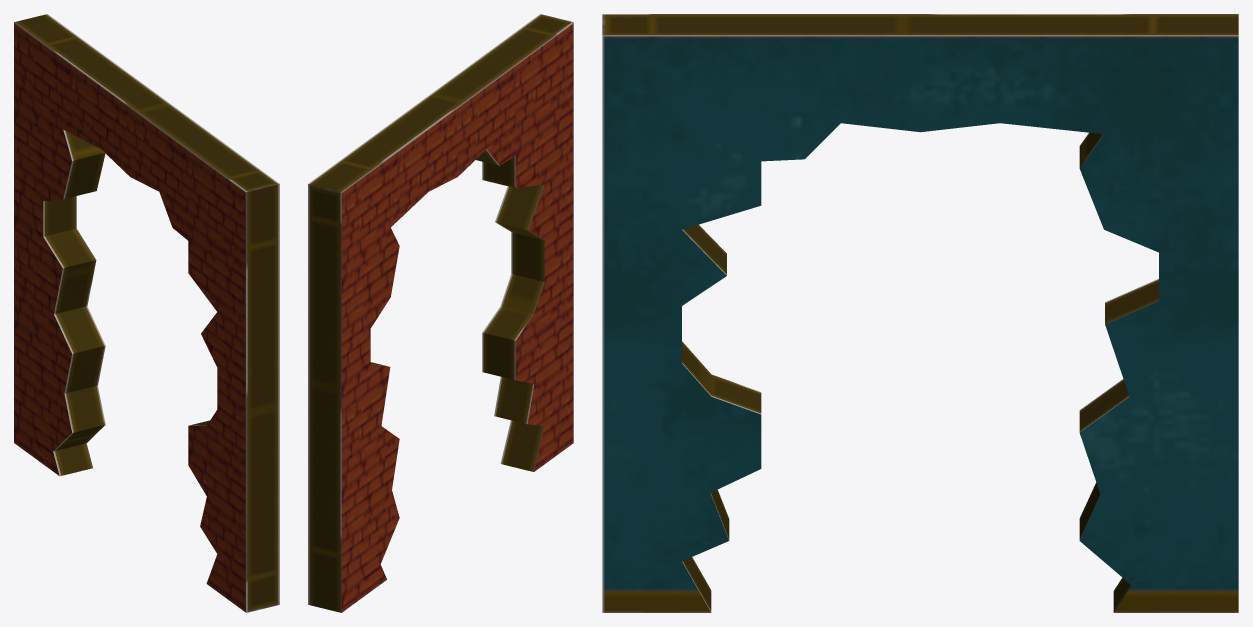
File: Wall_Broken_01.fbx
The picture shows the model from 3 angles, left to right: view 1: azimuth 30°, elevation 25°; view 2: azimuth 150°, elevation 25°; view 3: azimuth 270°, elevation 25°; orthographic projection. The views are drawn at different scales.
Parts seen in each view (by area): view 1: Wall_Broken_01; view 2: Wall_Broken_01; view 3: Wall_Broken_01.
Part boxes in pixels (x1,y1,x2,y2): Wall_Broken_01: (14, 14, 279, 612); Wall_Broken_01: (308, 14, 573, 612); Wall_Broken_01: (602, 14, 1238, 612).
Bounding box in the file's own units: 50 × 600 × 600.
